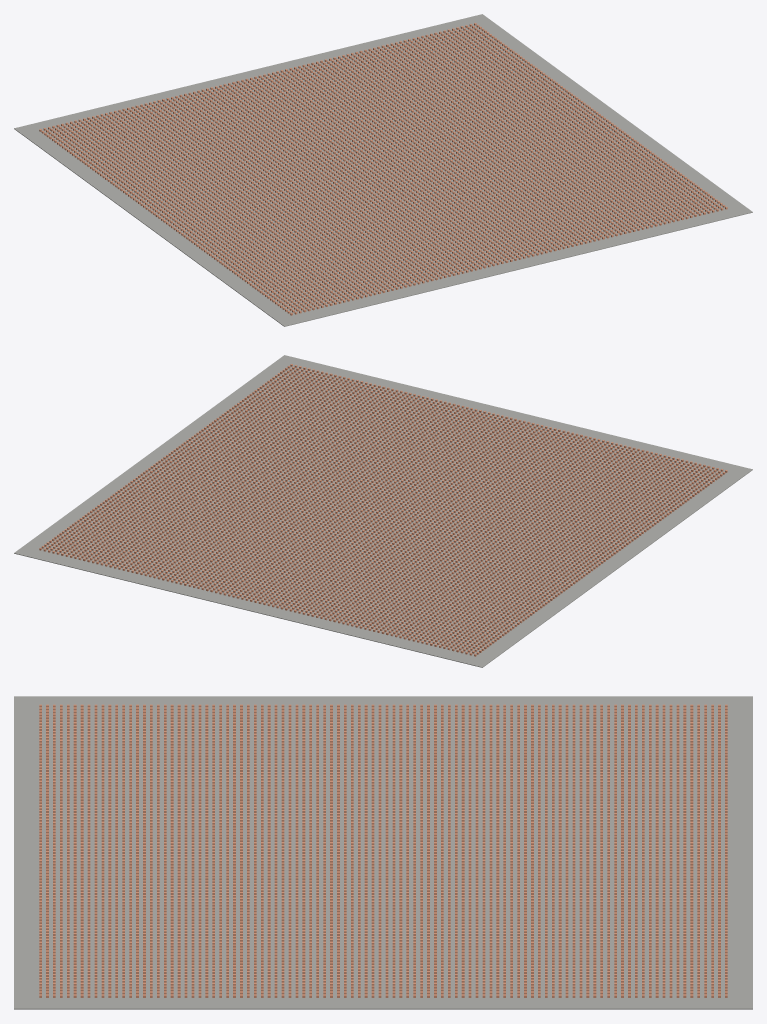
Rendered from source.gltf.
3 renders of one model, top to bottom at view 1: azimuth 30°, elevation 25°; view 2: azimuth 150°, elevation 25°; view 3: azimuth 270°, elevation 25°, orthographic. The views are drawn at different scales.
Visible parts, largest first — view 1: ground; view 2: ground; view 3: ground.
Boxes of the visible parts, x1,y1,x2,y2 form: ground: (14, 14, 752, 326); ground: (14, 355, 752, 667); ground: (14, 696, 752, 1009).
Size of the model in its own units: 160 by 0.8 by 160.
